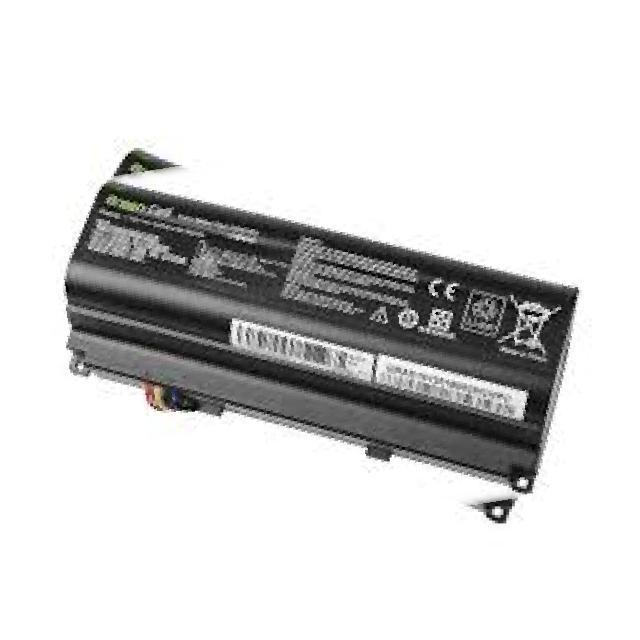Battery: (18, 108, 608, 548)
